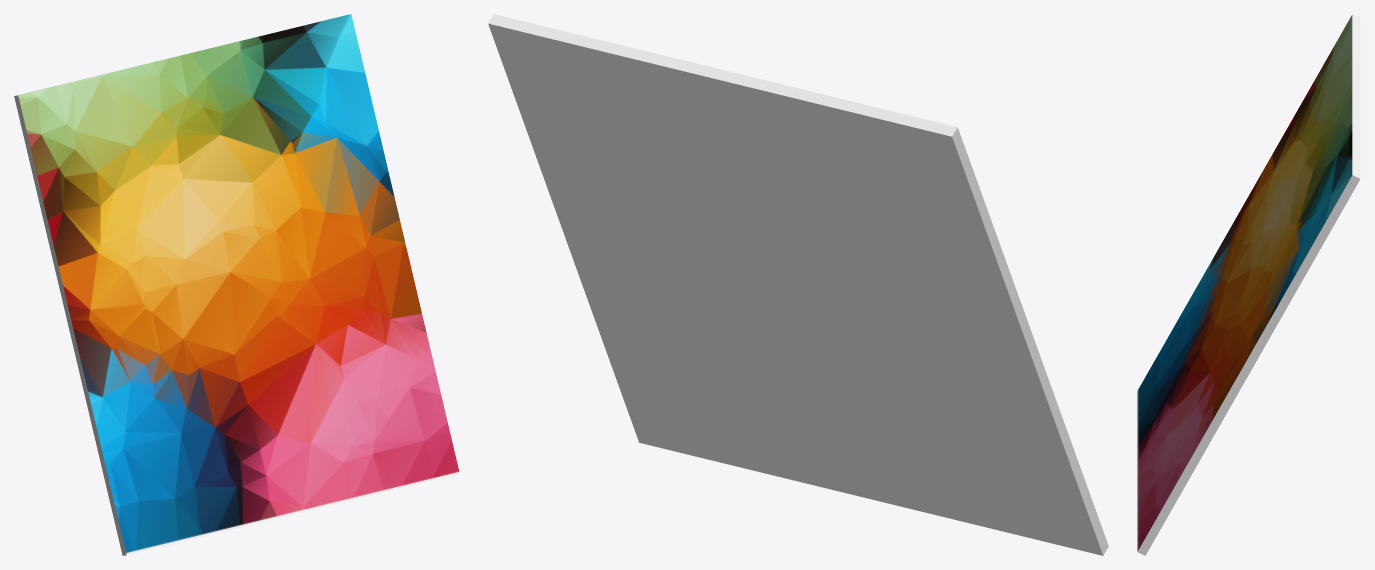
Rendered from carton_02.fbx.
3 views of the same model, side by side, from view 1: azimuth 30°, elevation 25°; view 2: azimuth 150°, elevation 25°; view 3: azimuth 270°, elevation 25° (orthographic). The views are drawn at different scales.
Visible parts, largest first — view 1: mesh1; view 2: mesh1; view 3: mesh1.
Boxes of the visible parts, left/top/right/bottom form: mesh1: left=14, top=14, right=459, bottom=555; mesh1: left=488, top=14, right=1108, bottom=555; mesh1: left=1137, top=14, right=1360, bottom=555.
Bounding box in the file's own units: 36.46 × 40.18 × 21.34.
Materials: 1 (1 with a texture image).
